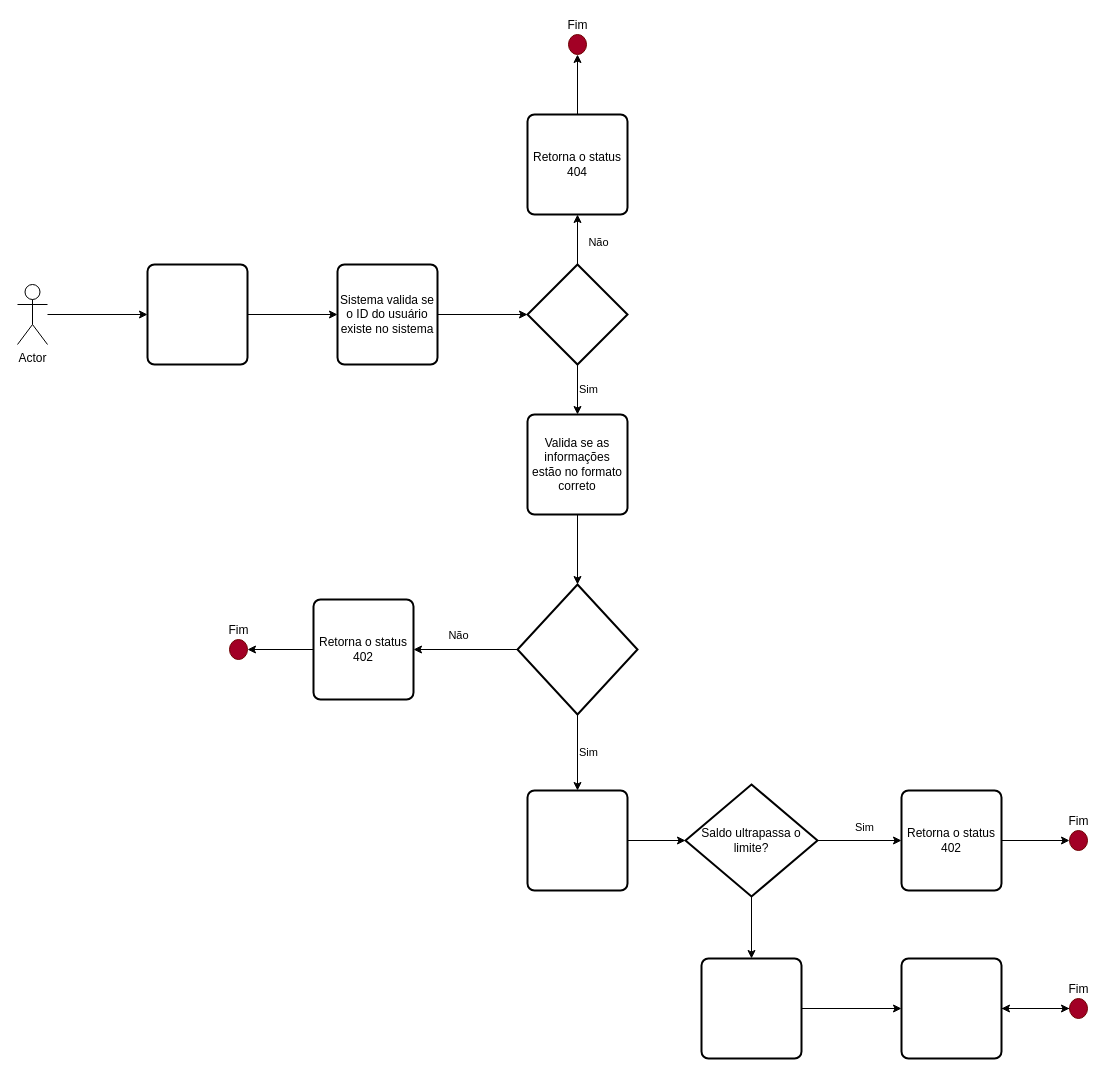
This 1106x1076 diagram has some shape labels left out. The centre of each missing label's shape, as x and y in pixels:
Conclui transação: pixel 751 1008
ID existe?: pixel 577 314
Informações tem o formato correto?: pixel 577 649
Retorna o status 200: pixel 951 1008
Usuário envia a requisição de transação: pixel 197 314
Valida se o saldo do cliente não irá ficar menor que o limite: pixel 577 840
